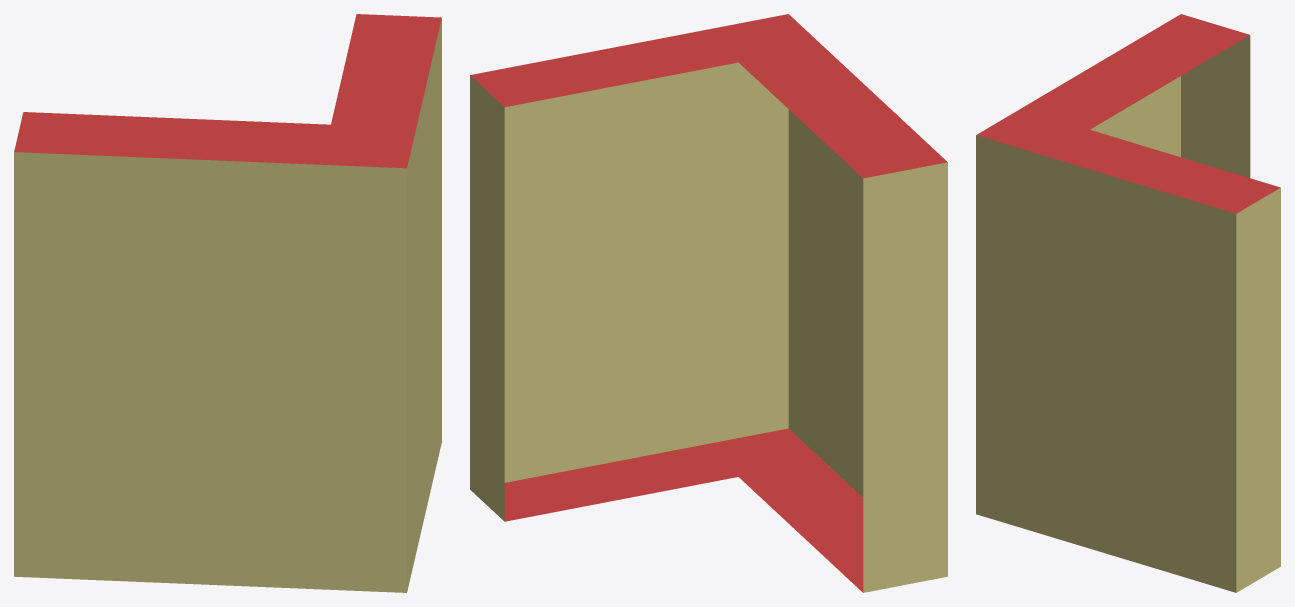
The picture shows the model from 3 angles, left to right: view 1: azimuth 30°, elevation 25°; view 2: azimuth 150°, elevation 25°; view 3: azimuth 270°, elevation 25°; orthographic projection. The views are drawn at different scales.
Visible parts, largest first — view 1: group_4, group_3; view 2: group_4, group_3, group_5; view 3: group_4, group_3.
Part boxes in pixels (x1,y1,x2,y2): group_4: [14, 18, 441, 592]; group_3: [14, 14, 441, 168]; group_4: [470, 62, 947, 592]; group_3: [470, 14, 947, 178]; group_5: [504, 428, 863, 592]; group_4: [976, 35, 1280, 592]; group_3: [976, 14, 1280, 213].
Bounding box in the file's own units: 11.62 × 7.49 × 10.28.
